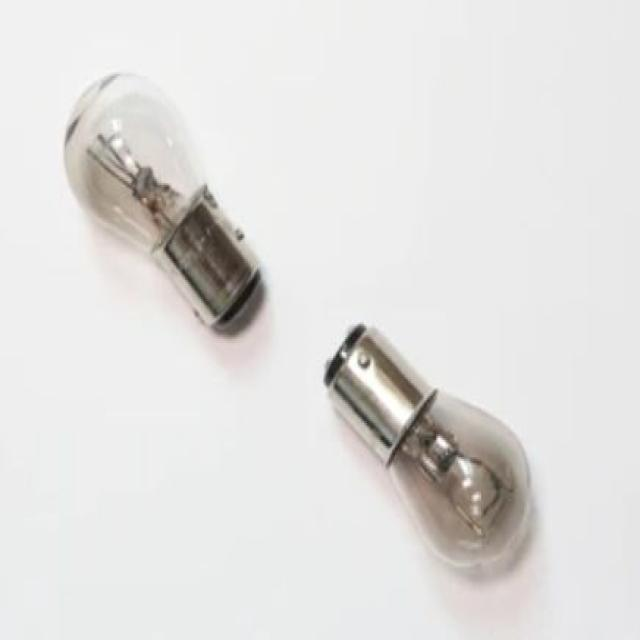electronic: (62, 67, 264, 335), (321, 320, 533, 575)
